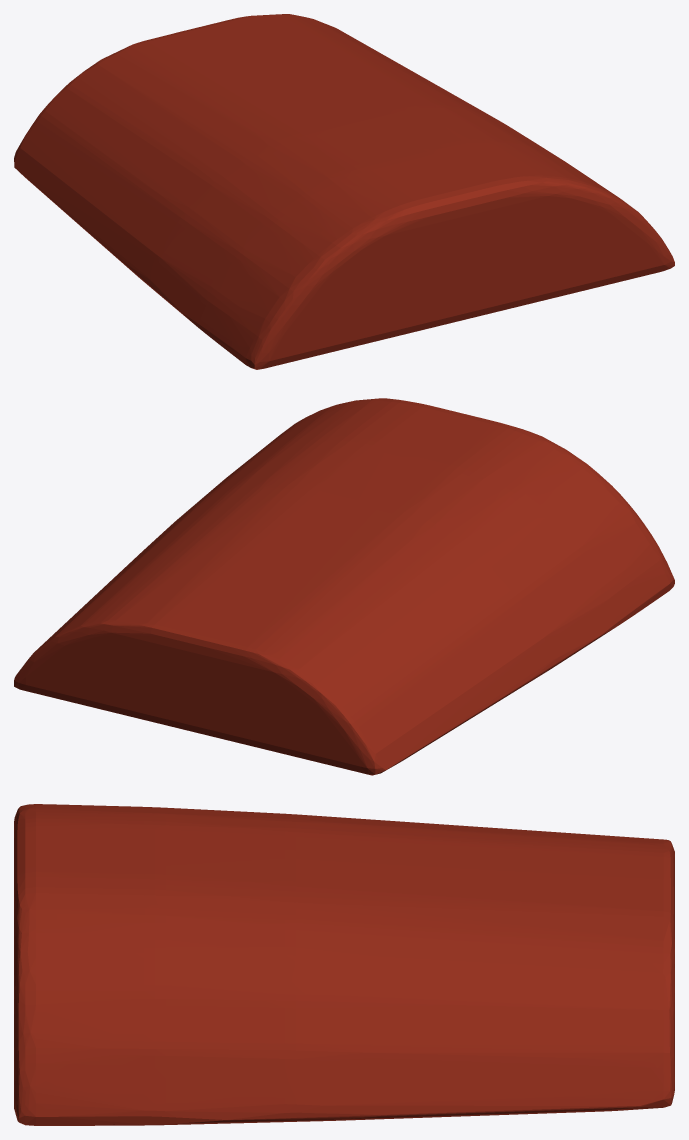
File: left_shoulder_yaw_link_part_15.obj
3 views of the same model, one above another, from view 1: azimuth 30°, elevation 25°; view 2: azimuth 150°, elevation 25°; view 3: azimuth 270°, elevation 25° (orthographic). The views are drawn at different scales.
Size of the model in its own units: 0.0562 by 0.0161 by 0.0627.
